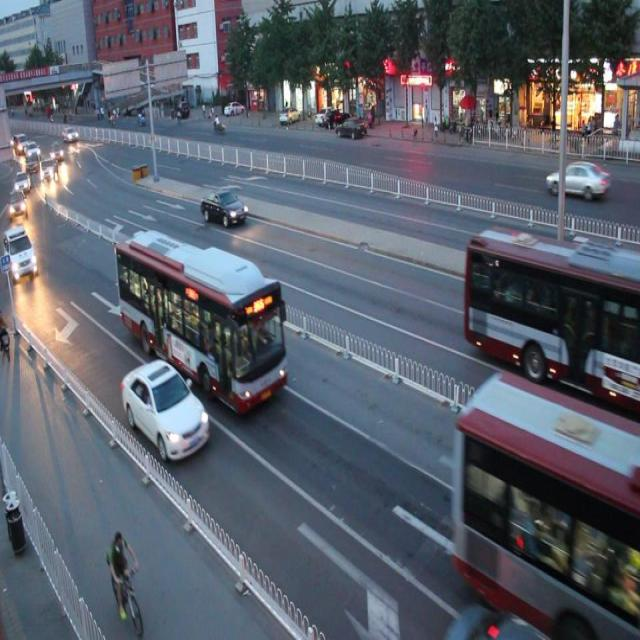car: (121, 358, 210, 462), (547, 158, 608, 202), (201, 188, 247, 227)
van: (449, 365, 640, 640), (464, 224, 640, 408), (115, 230, 288, 414)
